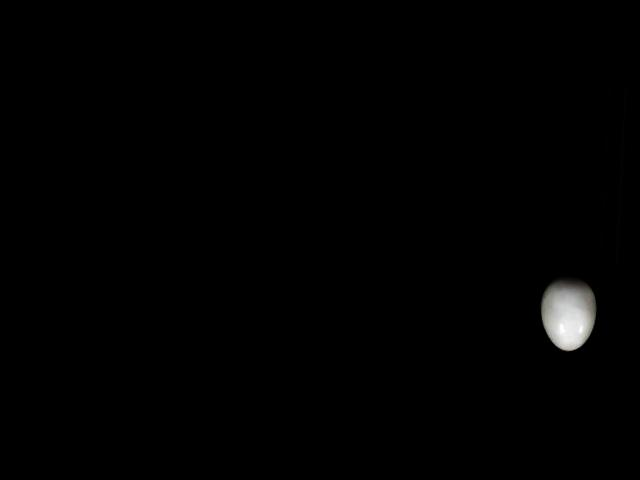egg: (539, 273, 598, 351)
